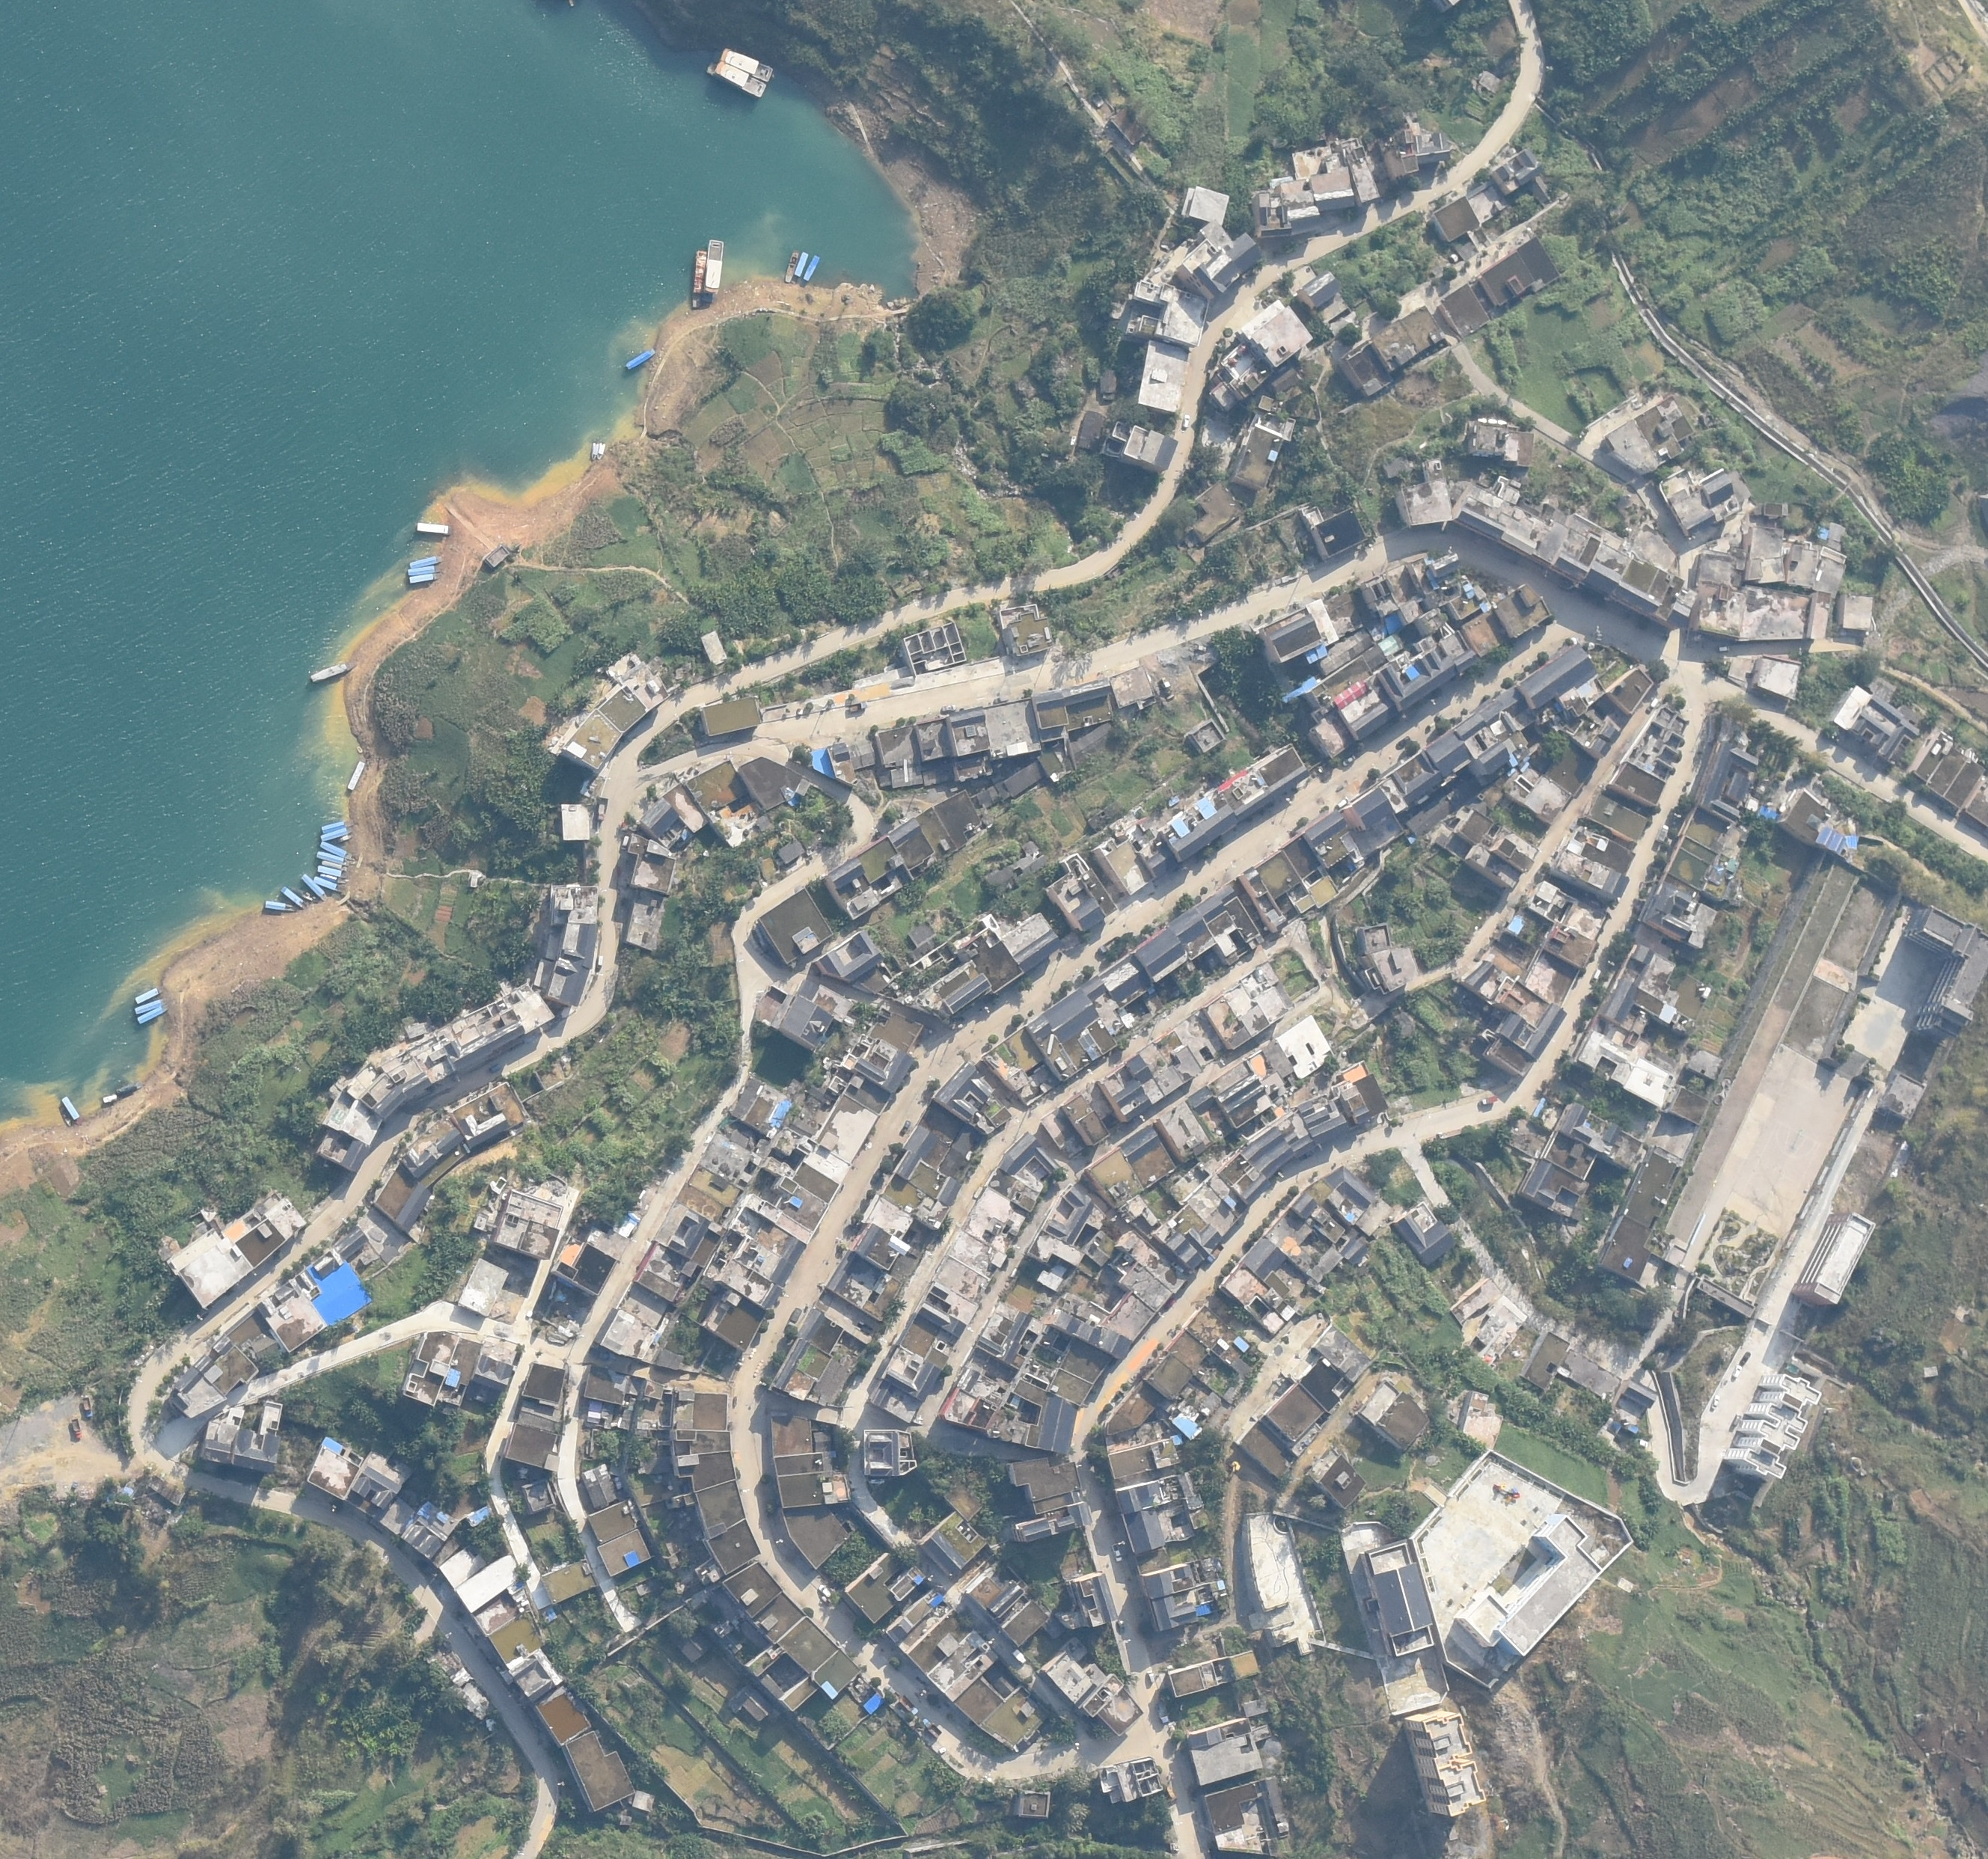building: (1458, 1513, 1604, 1659), (165, 1192, 306, 1305), (1905, 906, 1988, 1038), (1723, 1373, 1822, 1477), (1588, 542, 1692, 632), (1404, 1709, 1488, 1819), (1029, 1311, 1126, 1404), (1307, 655, 1396, 756), (1363, 1540, 1437, 1657), (1452, 475, 1546, 563), (1791, 1211, 1877, 1307), (1027, 991, 1114, 1079), (685, 762, 771, 847), (1576, 1032, 1669, 1111), (1488, 981, 1565, 1076), (1457, 689, 1539, 774), (824, 839, 911, 919), (1914, 732, 1988, 826), (1116, 1474, 1208, 1550), (955, 1680, 1051, 1751), (477, 1181, 562, 1261), (1222, 746, 1310, 821), (1205, 968, 1286, 1049), (886, 1593, 966, 1675), (1605, 395, 1691, 471), (815, 1075, 889, 1163), (1694, 586, 1808, 642), (435, 998, 522, 1071), (1181, 222, 1263, 300), (880, 1153, 960, 1231), (765, 1128, 849, 1202), (1054, 1294, 1153, 1356), (997, 1381, 1077, 1456), (198, 1401, 283, 1471), (1143, 1560, 1228, 1629), (904, 1100, 979, 1178), (1126, 279, 1210, 349), (1522, 1135, 1598, 1211), (1130, 1201, 1221, 1264), (949, 916, 1025, 991), (1693, 738, 1761, 823), (1666, 809, 1737, 889), (1047, 852, 1118, 933), (1450, 1279, 1526, 1355), (1157, 790, 1238, 860), (314, 1088, 382, 1172), (1205, 1783, 1286, 1852), (934, 1062, 1009, 1133), (760, 889, 831, 966), (1558, 1103, 1640, 1168), (1116, 1230, 1184, 1308), (1197, 885, 1264, 964), (1382, 637, 1458, 708), (1257, 599, 1340, 663), (717, 1237, 790, 1309), (735, 1195, 813, 1263), (1517, 645, 1600, 708), (566, 1733, 632, 1811), (536, 924, 598, 1007), (1220, 1268, 1301, 1332), (1370, 304, 1448, 370), (829, 1251, 902, 1320), (846, 1555, 922, 1623), (1031, 676, 1110, 739), (1642, 881, 1719, 946), (928, 1632, 998, 1702), (1668, 470, 1742, 536), (1603, 978, 1678, 1043), (1190, 1721, 1267, 1784), (1853, 695, 1918, 768), (887, 807, 964, 869), (1241, 300, 1313, 366), (451, 1083, 526, 1147), (1467, 825, 1538, 890), (780, 1506, 852, 1569), (874, 1347, 946, 1409), (1358, 1384, 1425, 1451), (1627, 705, 1686, 781), (260, 1279, 324, 1349), (1234, 415, 1294, 489), (1624, 1150, 1683, 1224), (1538, 515, 1602, 584), (973, 1308, 1033, 1379), (982, 1028, 1049, 1091), (1250, 177, 1321, 236), (1168, 1648, 1256, 1696), (921, 1511, 986, 1575), (1326, 1166, 1386, 1235), (1284, 834, 1340, 908), (403, 1329, 457, 1406), (406, 1119, 470, 1183), (553, 1234, 617, 1298), (1389, 560, 1446, 631), (774, 994, 838, 1057), (771, 1339, 832, 1406), (1258, 853, 1318, 920), (1550, 849, 1628, 900), (1211, 343, 1270, 411), (841, 1035, 910, 1093), (1288, 266, 1358, 323), (1294, 144, 1354, 208), (1039, 1094, 1112, 1148), (635, 1240, 697, 1302), (704, 1288, 763, 1353), (1102, 1057, 1163, 1118), (1398, 458, 1453, 527), (1137, 340, 1187, 414), (1006, 1457, 1078, 1509), (982, 696, 1042, 759), (1393, 1201, 1452, 1264), (194, 1336, 257, 1394), (1211, 1062, 1270, 1124), (989, 1584, 1047, 1647), (738, 756, 807, 808), (376, 1166, 431, 1232), (1107, 420, 1177, 472), (1094, 835, 1154, 895), (353, 1448, 411, 1510), (1600, 1217, 1656, 1281), (562, 710, 622, 769), (1307, 1448, 1365, 1509), (1267, 1383, 1325, 1445), (1001, 913, 1062, 971), (1396, 111, 1453, 173), (1505, 768, 1570, 821), (732, 1076, 792, 1133), (1000, 1133, 1064, 1186), (1086, 1674, 1141, 1735), (934, 790, 988, 851), (685, 1482, 747, 1537), (369, 1043, 432, 1095), (854, 1225, 919, 1276), (902, 623, 967, 673), (1120, 1126, 1173, 1187), (1279, 1016, 1330, 1079), (1558, 1352, 1622, 1402), (1432, 806, 1492, 859), (1045, 1189, 1104, 1242), (535, 1686, 591, 1742), (726, 1564, 783, 1618), (1493, 584, 1553, 635), (1466, 420, 1534, 466), (1056, 1573, 1113, 1629), (1315, 1326, 1371, 1381), (819, 932, 885, 979), (457, 1556, 516, 1608), (438, 1335, 480, 1409), (309, 1439, 358, 1501), (779, 1618, 834, 1673), (997, 603, 1054, 656), (707, 1521, 759, 1578), (626, 886, 671, 952), (875, 725, 923, 788), (600, 1308, 655, 1362), (1483, 251, 1536, 306), (1567, 827, 1633, 872), (169, 1366, 225, 1418), (1011, 1504, 1092, 1540), (345, 1067, 404, 1116), (1236, 1421, 1291, 1474), (1157, 1103, 1209, 1160), (1085, 1151, 1141, 1202), (985, 842, 1046, 889), (404, 1501, 456, 1557), (1695, 1278, 1761, 1321), (1098, 1758, 1163, 1801), (629, 833, 675, 895), (774, 1177, 827, 1230), (1247, 1041, 1294, 1099), (1336, 1063, 1383, 1122), (1338, 342, 1389, 396), (1337, 138, 1380, 202), (1314, 506, 1365, 559), (753, 1593, 807, 1644), (1193, 484, 1239, 542), (1458, 1389, 1504, 1448), (1390, 749, 1443, 800), (506, 1422, 560, 1472), (1043, 1650, 1093, 1703), (862, 1429, 917, 1477), (1523, 1332, 1568, 1391), (1590, 796, 1647, 842), (1137, 929, 1189, 980), (769, 1413, 835, 1453), (1360, 947, 1416, 994), (1218, 1151, 1268, 1203), (1307, 811, 1352, 869), (507, 1647, 560, 1696), (487, 1615, 541, 1663), (1107, 1441, 1181, 1475), (1439, 283, 1487, 335), (670, 1212, 721, 1261), (1608, 762, 1666, 806), (623, 655, 669, 708), (1317, 630, 1373, 674), (1779, 790, 1824, 845), (505, 982, 554, 1032), (1299, 1095, 1350, 1143), (1339, 785, 1390, 832), (920, 1284, 966, 1338), (778, 1473, 851, 1506), (1110, 666, 1157, 717), (701, 697, 762, 736), (677, 1451, 738, 1490), (463, 1258, 504, 1315), (1877, 1072, 1927, 1120), (811, 1650, 859, 1700), (1517, 237, 1560, 293), (597, 1531, 652, 1574), (1302, 1359, 1348, 1410), (541, 1561, 599, 1601), (1434, 196, 1480, 246), (917, 718, 952, 785), (671, 1390, 730, 1429), (1746, 524, 1786, 582), (1570, 712, 1621, 757), (1752, 655, 1800, 701), (1241, 1127, 1290, 1174), (1134, 824, 1175, 878), (1156, 1044, 1201, 1094), (1547, 925, 1596, 970), (471, 1593, 524, 1634), (869, 1010, 924, 1050), (1608, 666, 1654, 714), (1101, 958, 1150, 1002), (663, 783, 709, 830), (949, 708, 991, 758), (476, 1334, 516, 1388), (589, 1502, 638, 1544), (941, 1391, 995, 1430), (940, 973, 992, 1012), (986, 1170, 1039, 1208), (1104, 1395, 1154, 1436), (1168, 910, 1213, 955), (1494, 147, 1537, 195), (598, 687, 646, 729), (1028, 1232, 1083, 1269), (1831, 684, 1869, 736), (1180, 185, 1229, 225), (863, 1197, 913, 1237), (1070, 723, 1121, 762), (549, 885, 599, 924), (1439, 575, 1484, 618), (1464, 611, 1506, 657), (583, 1364, 629, 1406), (1148, 1356, 1194, 1398), (1695, 548, 1745, 586), (408, 1035, 450, 1081), (1189, 1175, 1234, 1216), (1423, 731, 1466, 773), (522, 1362, 565, 1403), (1275, 1110, 1315, 1155), (1467, 180, 1509, 222), (1529, 881, 1570, 922), (1406, 797, 1451, 836), (1324, 592, 1363, 635), (1244, 1238, 1288, 1276), (437, 1551, 484, 1586), (518, 1399, 564, 1433), (582, 1463, 618, 1506), (1440, 631, 1478, 671), (1187, 719, 1229, 756), (773, 1453, 842, 1474), (673, 1430, 731, 1455), (640, 799, 680, 836), (1666, 1090, 1707, 1124), (585, 1400, 634, 1429), (735, 1685, 774, 1721), (1003, 762, 1048, 793), (1817, 548, 1847, 594), (1075, 409, 1104, 457), (944, 1482, 981, 1519), (1841, 592, 1874, 632), (1788, 540, 1815, 587), (1112, 106, 1146, 144), (744, 1644, 782, 1677), (1172, 1333, 1209, 1367), (521, 1479, 556, 1513), (1037, 748, 1073, 782), (1084, 1231, 1118, 1267), (827, 742, 857, 780), (781, 1679, 815, 1712), (677, 1629, 712, 1662), (1808, 592, 1831, 640), (1686, 1050, 1725, 1079), (560, 804, 590, 839), (1357, 923, 1392, 953), (700, 631, 727, 669), (1379, 777, 1408, 812), (1017, 1789, 1050, 1819), (334, 1227, 367, 1256), (965, 1577, 999, 1605), (1465, 960, 1494, 992), (1294, 1194, 1324, 1226), (1339, 1230, 1368, 1263), (1621, 1379, 1657, 1406), (973, 783, 1009, 807), (906, 922, 939, 949), (1268, 367, 1300, 393), (1473, 71, 1501, 99), (1559, 688, 1586, 716), (848, 743, 877, 770), (798, 1308, 824, 1338), (1429, 553, 1461, 576), (1455, 232, 1481, 260), (1529, 176, 1555, 204), (1825, 521, 1848, 551), (777, 841, 805, 866), (1189, 1088, 1217, 1112), (312, 1253, 340, 1277), (295, 1272, 320, 1298), (482, 544, 510, 567), (1098, 369, 1118, 400), (1036, 1268, 1062, 1291), (1080, 978, 1108, 999), (254, 1337, 280, 1359), (759, 1674, 783, 1697), (655, 1349, 684, 1368), (1754, 501, 1790, 516), (1319, 1250, 1341, 1275), (633, 1791, 657, 1813), (1378, 635, 1404, 655), (1294, 1224, 1315, 1247), (1242, 1700, 1269, 1716), (643, 1379, 665, 1400), (1086, 1664, 1104, 1686), (1633, 946, 1653, 964), (1210, 1338, 1229, 1356), (406, 1023, 426, 1038), (990, 1250, 1007, 1267), (1258, 395, 1274, 413), (986, 1219, 1003, 1235), (1923, 1367, 1939, 1379), (470, 874, 478, 887)
prefabricated-house: (296, 1255, 369, 1323), (1818, 827, 1859, 862), (805, 748, 835, 780), (1170, 1414, 1204, 1439), (615, 1211, 639, 1239), (462, 1506, 493, 1527), (1304, 645, 1328, 664), (1506, 914, 1526, 936), (864, 1693, 884, 1714), (1383, 614, 1403, 633), (1235, 1338, 1249, 1353), (1817, 526, 1828, 539)
ship: (706, 59, 766, 99), (719, 46, 772, 82), (704, 238, 724, 304), (310, 661, 358, 684), (692, 250, 707, 310), (623, 346, 657, 370), (319, 839, 354, 860), (300, 873, 327, 900), (346, 760, 366, 792), (803, 255, 822, 288), (280, 886, 307, 909), (792, 251, 808, 286), (59, 1096, 79, 1125), (138, 1005, 168, 1024), (316, 851, 352, 866), (416, 521, 451, 536), (135, 986, 165, 1004), (313, 876, 345, 892), (134, 1000, 168, 1014), (784, 251, 798, 284), (290, 884, 317, 901), (320, 827, 352, 840), (409, 555, 443, 567), (264, 900, 298, 912), (322, 820, 355, 832), (316, 866, 348, 878), (409, 572, 438, 584), (407, 566, 441, 575), (117, 1083, 142, 1095), (320, 860, 347, 869), (319, 874, 344, 883), (596, 441, 605, 460), (103, 1094, 118, 1103), (590, 441, 598, 460), (337, 834, 351, 842)
vehicle: (922, 1718, 942, 1737), (1154, 1700, 1170, 1724), (899, 1696, 920, 1713), (1208, 1245, 1224, 1264), (817, 1585, 834, 1602), (70, 1419, 83, 1440), (1656, 824, 1670, 842), (1110, 1542, 1123, 1562), (80, 1396, 92, 1417), (789, 1308, 802, 1326), (884, 1683, 900, 1697), (899, 1119, 911, 1139), (1590, 967, 1603, 984), (850, 702, 869, 712), (1731, 1363, 1743, 1379), (1480, 1095, 1499, 1105), (1012, 1650, 1026, 1663), (1342, 755, 1356, 768), (620, 835, 630, 851), (1740, 1351, 1752, 1365), (991, 696, 1011, 704), (1648, 698, 1658, 714), (1181, 414, 1190, 430), (1711, 1394, 1721, 1411), (1117, 1621, 1128, 1636), (1336, 797, 1349, 808), (940, 703, 956, 712), (598, 804, 607, 821), (1731, 1414, 1741, 1427), (1147, 1670, 1157, 1683), (489, 1063, 500, 1074), (598, 954, 605, 968), (1717, 646, 1730, 652)
